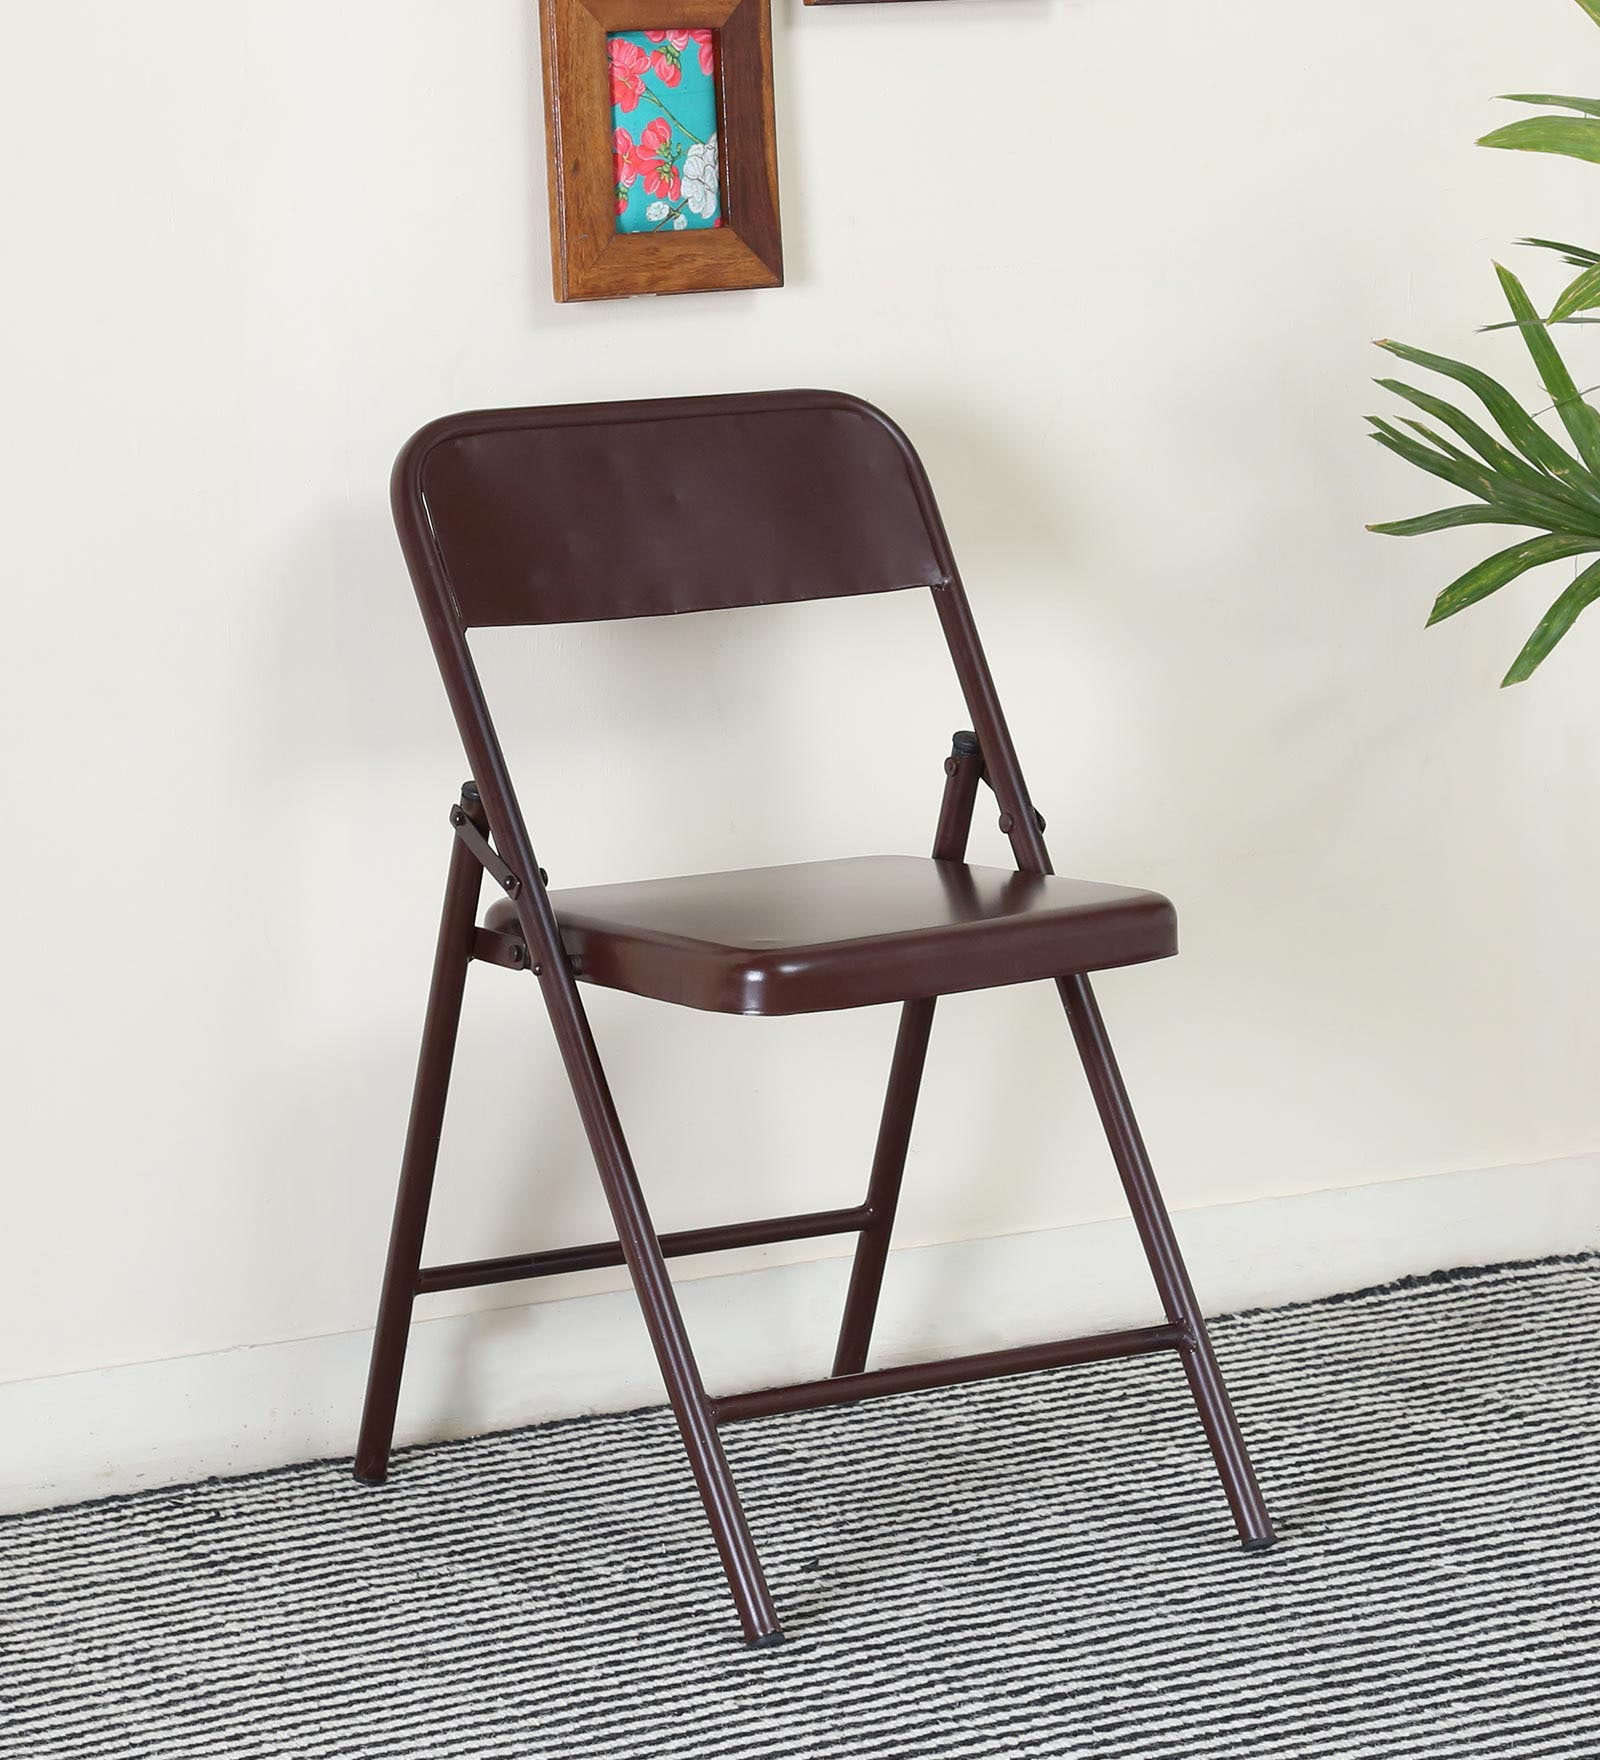Kell Folding Chair in Brown Color by Bohemiana: (328, 369, 1376, 1653)
